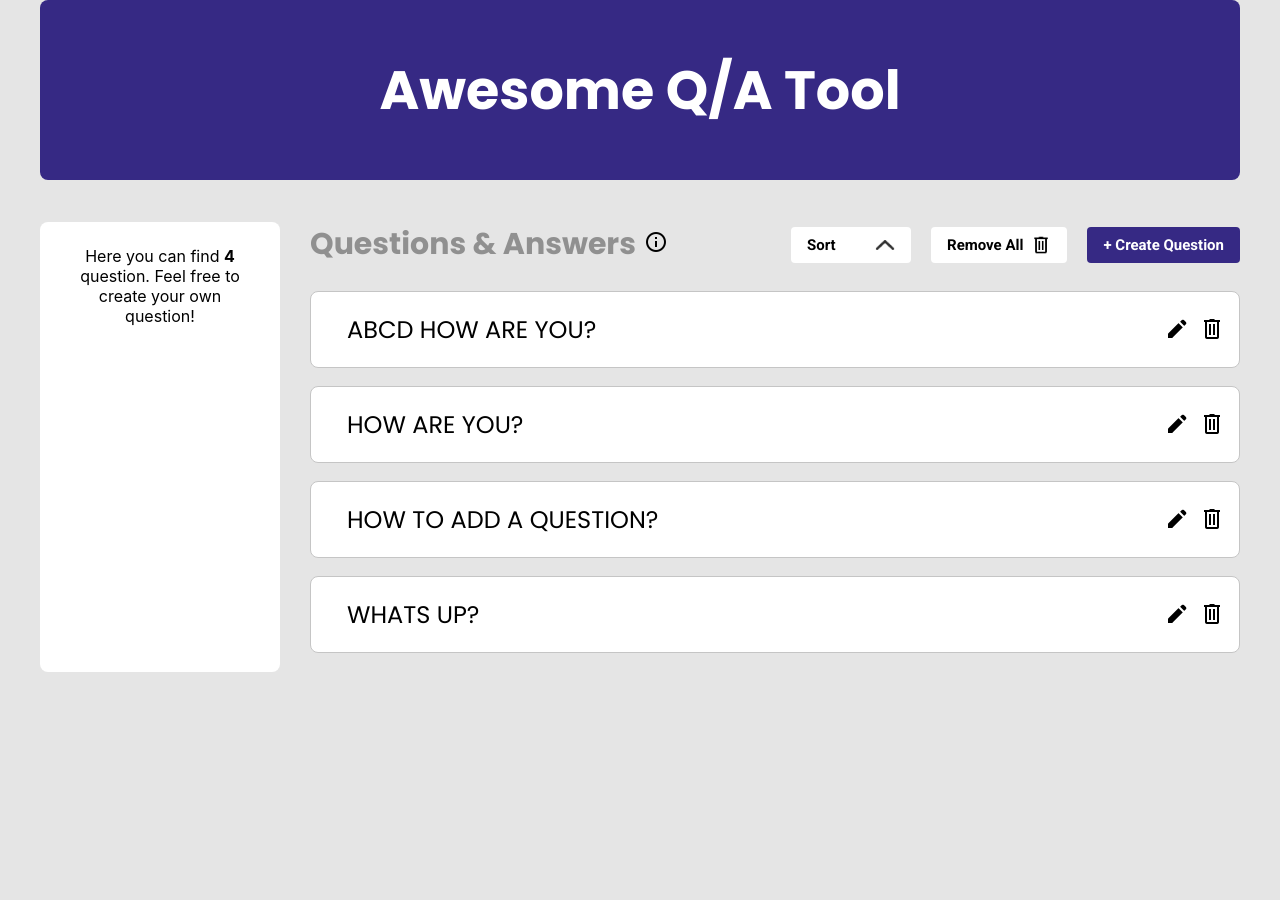
Test: Question Answers › edit button works as expected
The width and height of the screenshot is (1280, 900).
Expected: the text "How are you today?" is not shown
Step 1. Click the picture with test id "edit-icon" in the row of "ABCD How are you?" → (1177, 329), box [1165,317,1189,341]
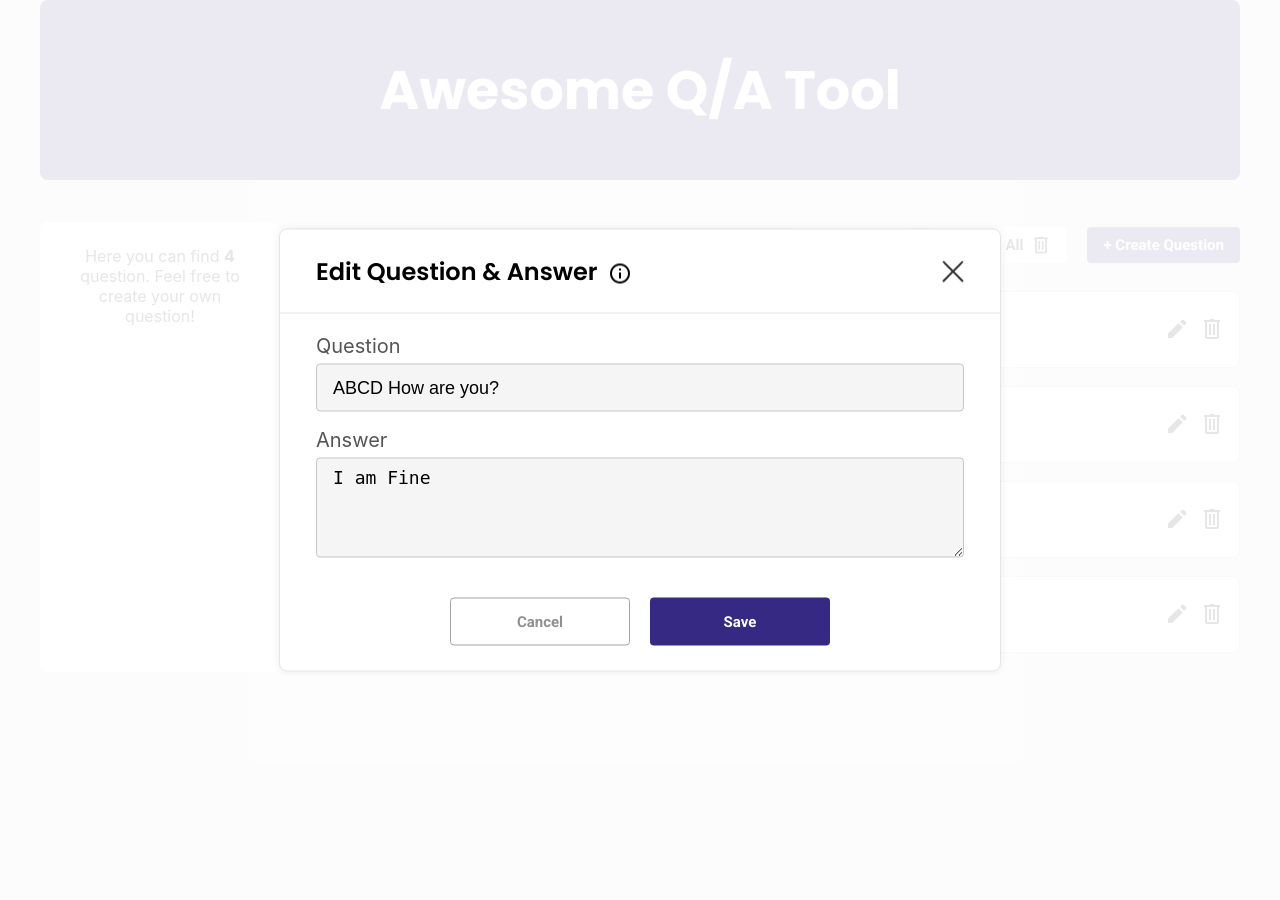
Expected: the heading "Edit Question & Answer" is shown, [316,254,632,288]
Step 2. Replace the text in the field with test id "form-input" with "How are you today?" → (640, 388), box [316,364,964,412]
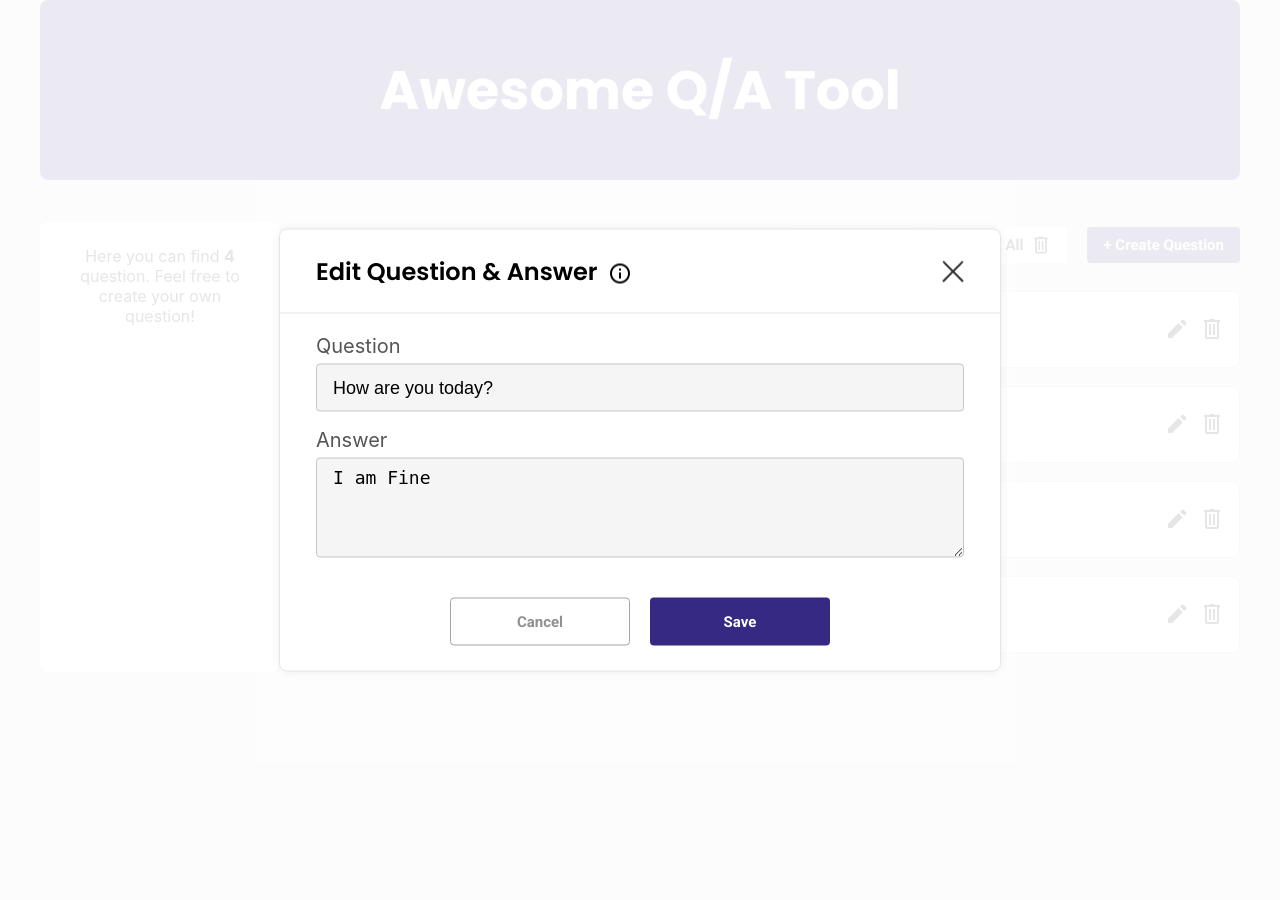
Step 3. Click the button "Save" → (740, 622), box [650,598,830,646]
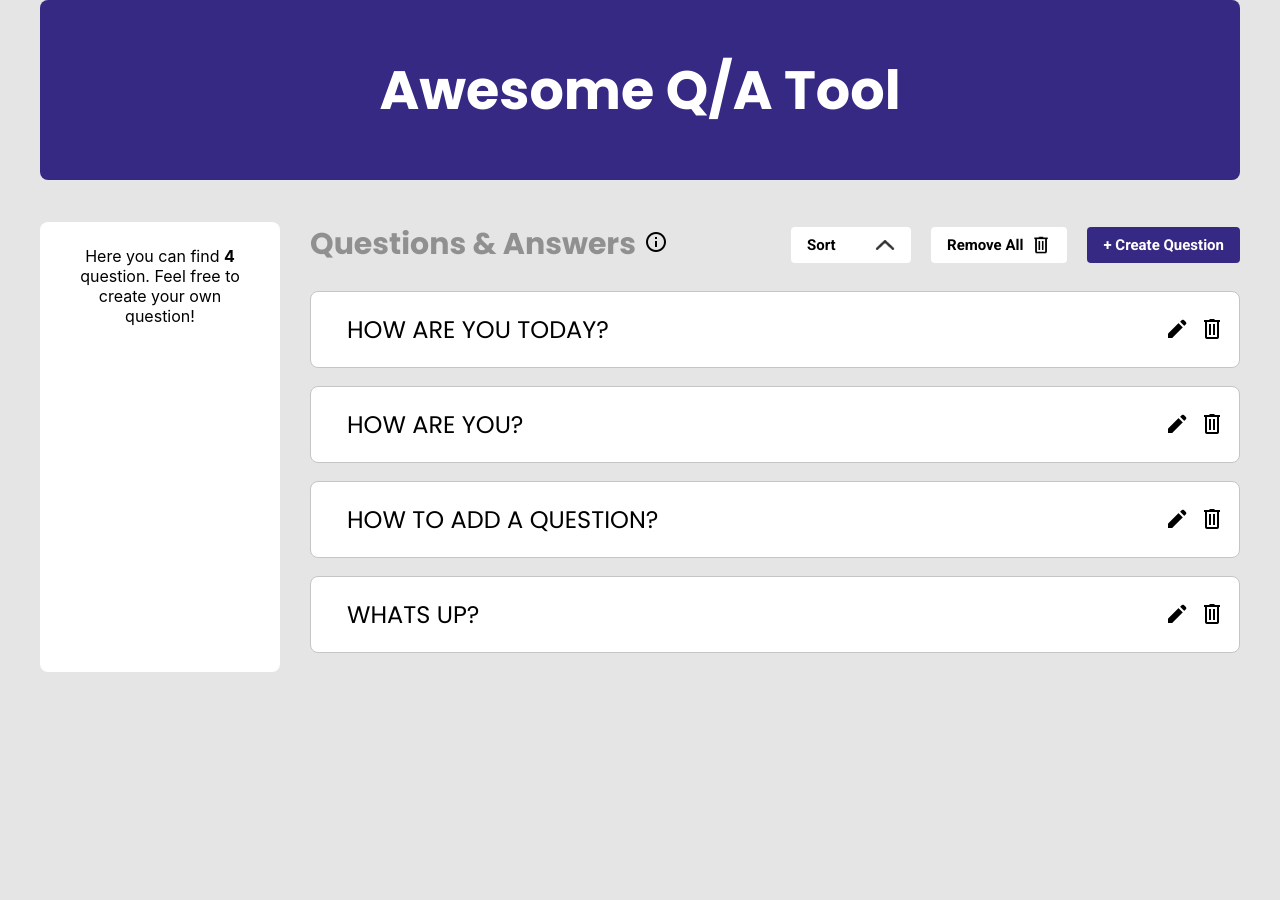
Expected: the heading "Edit Question & Answer" is gone
Expected: the heading "How are you today?" is shown, [347,312,1203,347]
